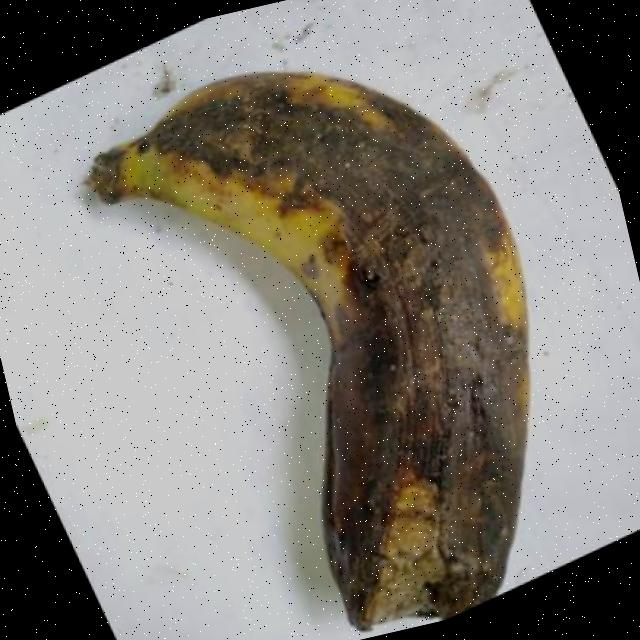Rotten: (31, 5, 626, 640)
